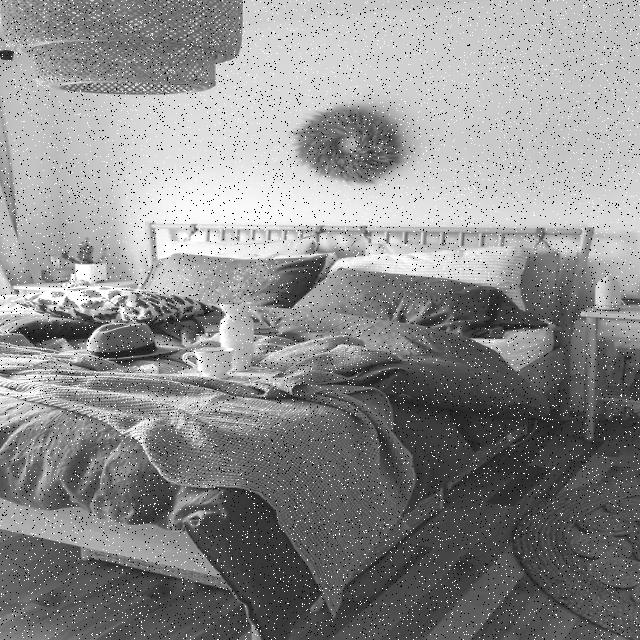bed: (0, 240, 581, 582)
